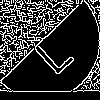L: (25, 25, 76, 78)
